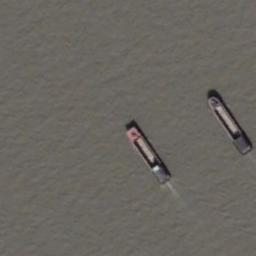boat: (124, 120, 170, 184), (206, 89, 251, 154)
